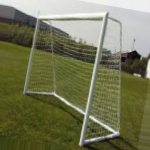goals: (22, 13, 123, 144)
